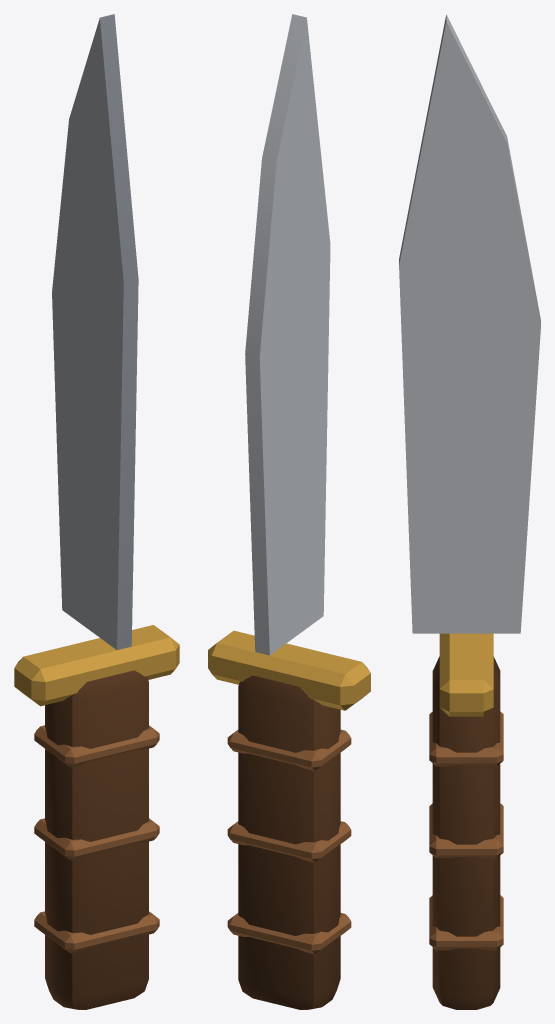
The model's file is SM_Hunting_Knife.glb.
3 renders of one model, left to right at view 1: azimuth 30°, elevation 25°; view 2: azimuth 150°, elevation 25°; view 3: azimuth 270°, elevation 25°, orthographic.
Parts seen in each view (by area): view 1: SM_Hunting_Knife; view 2: SM_Hunting_Knife; view 3: SM_Hunting_Knife.
Boxes of the visible parts, x1,y1,x2,y2 form: SM_Hunting_Knife: [14, 14, 179, 1009]; SM_Hunting_Knife: [208, 14, 370, 1009]; SM_Hunting_Knife: [399, 14, 540, 1009].
Size of the model in its own units: 0.05 by 0.32 by 0.042.
1 material, 1 textured.
